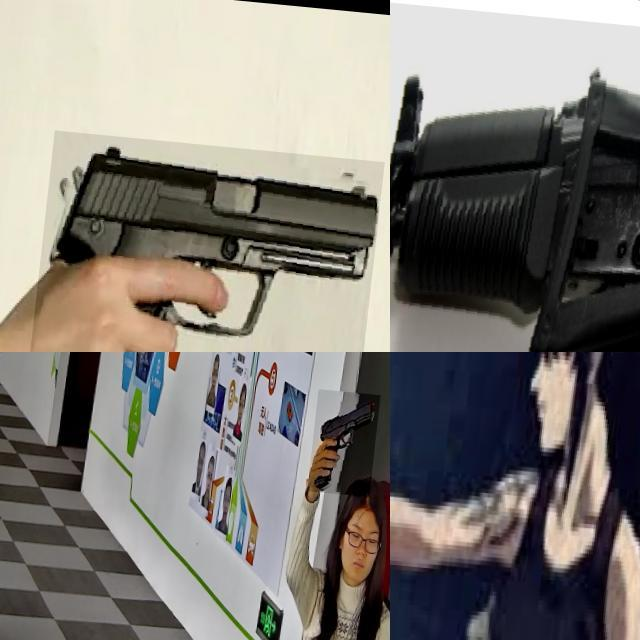gun-knife-thesis - v11 Yolov5 augmented: (390, 0, 640, 352), (26, 127, 388, 352), (390, 352, 472, 554), (316, 382, 387, 489)
